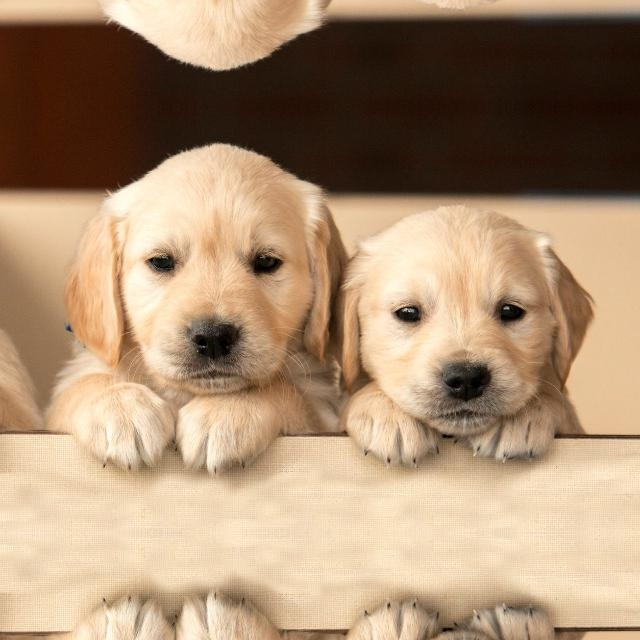dog: (48, 155, 333, 495), (332, 164, 582, 508), (333, 557, 582, 640), (49, 570, 334, 640), (49, 0, 334, 57), (333, 0, 582, 47)
